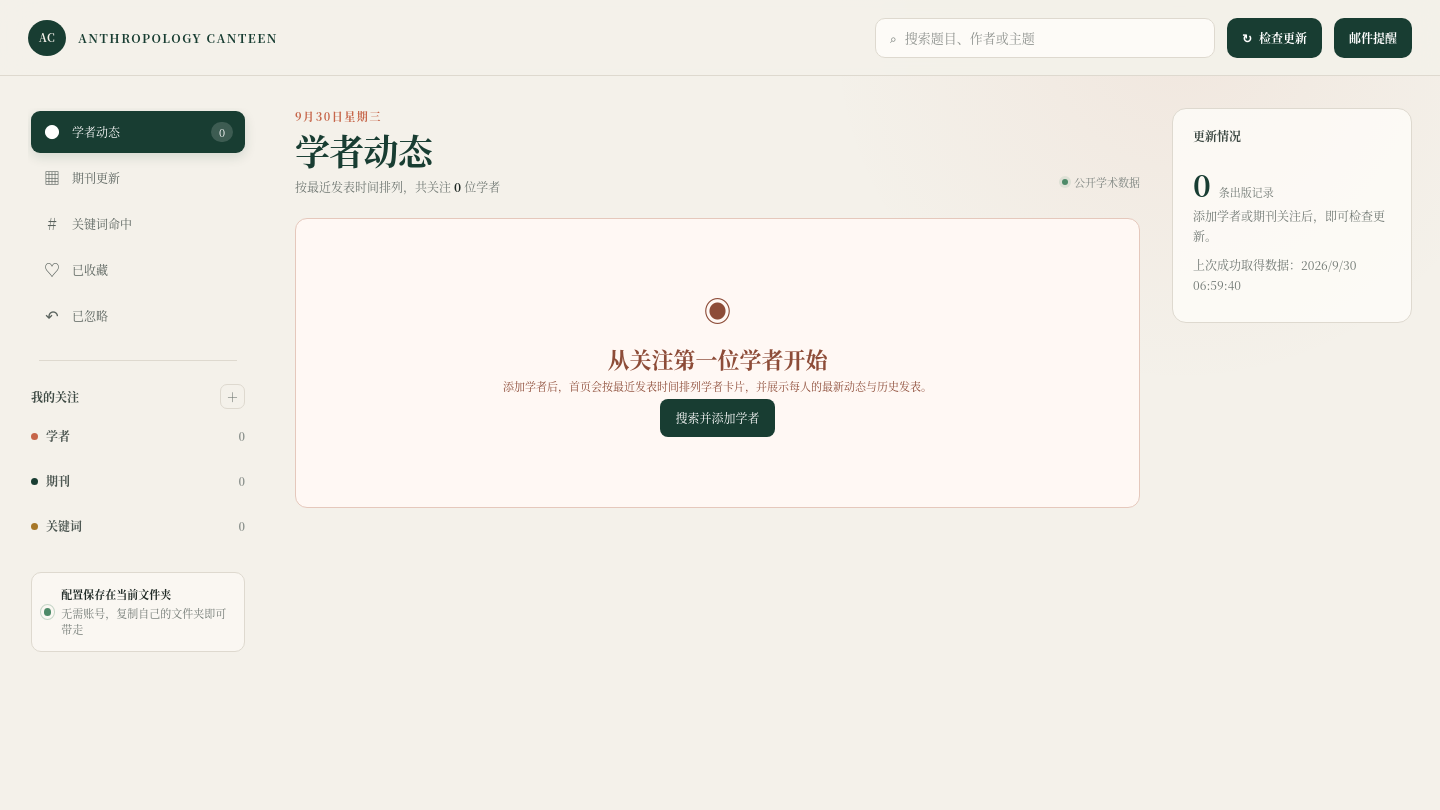
Slice C reminder state, accessibility, and narrow layout › cancelling the Windows permission prompt does not claim that restoration succeeded
The width and height of the screenshot is (1440, 810).
Step 1. Click the button "邮件提醒" → (1373, 38), box [1334,18,1412,58]
(page scrolled)
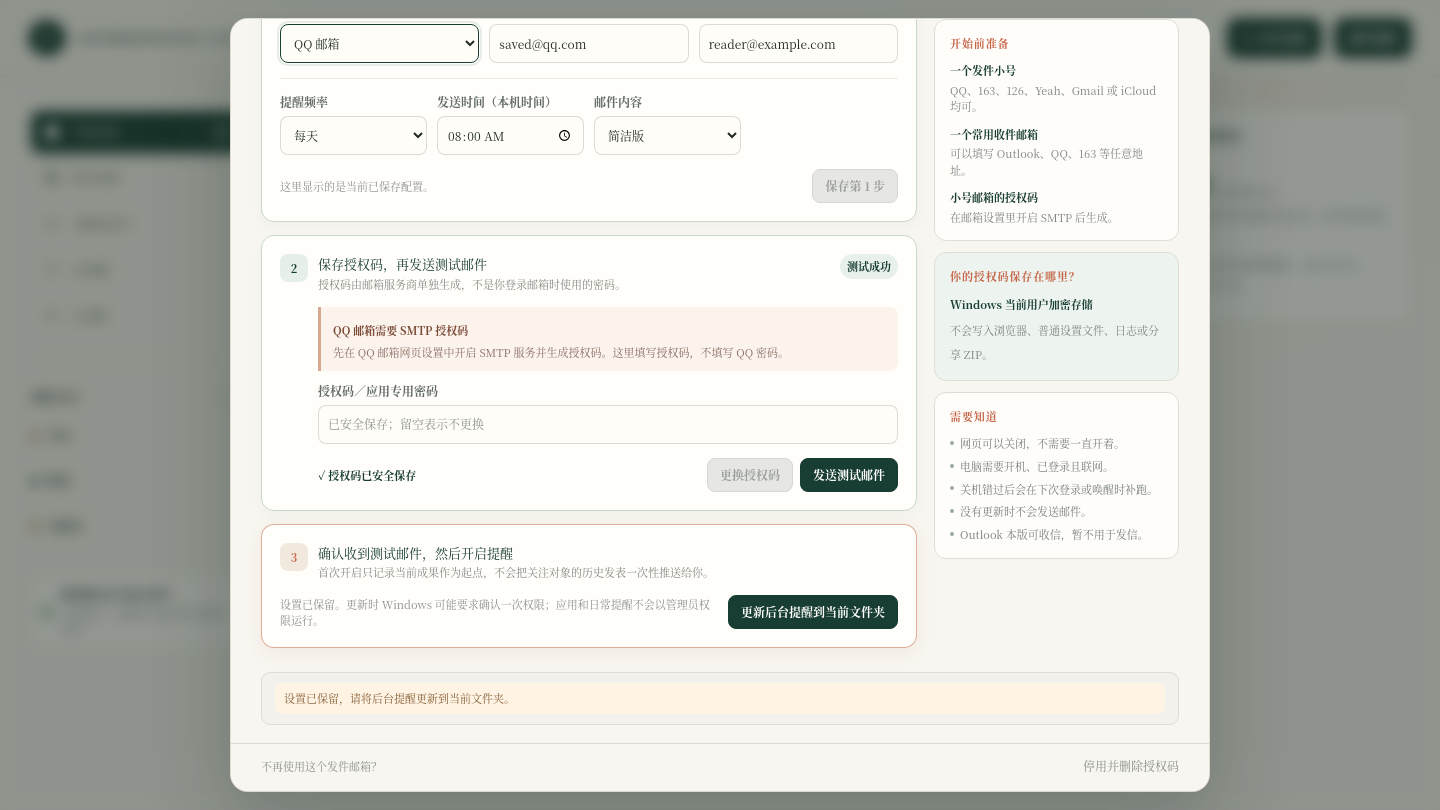
Step 2. Click the button "更新后台提醒到当前文件夹" → (813, 612), box [728,596,898,630]
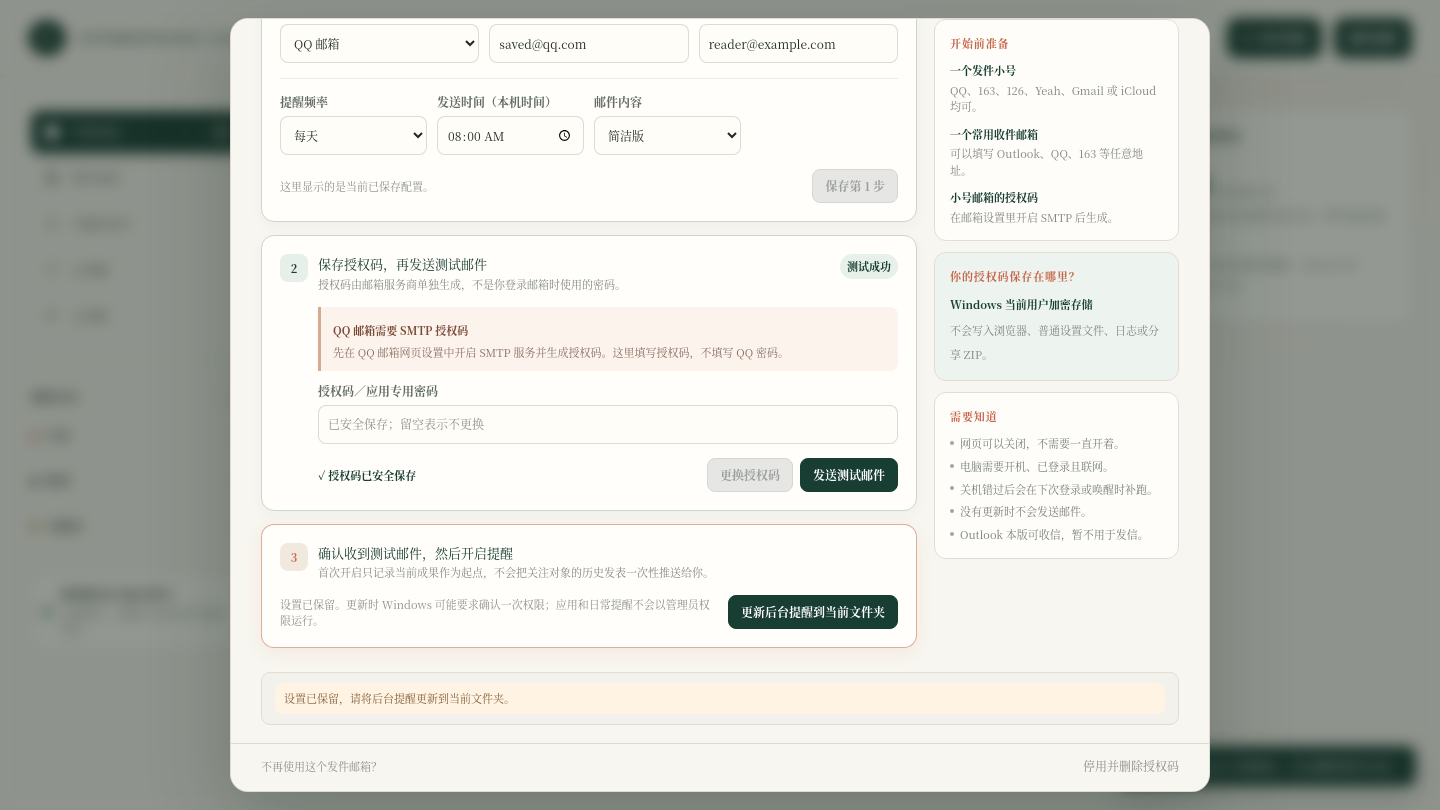
Result: the message shows "你已取消 Windows 权限确认" at [1135,758,1400,774]
